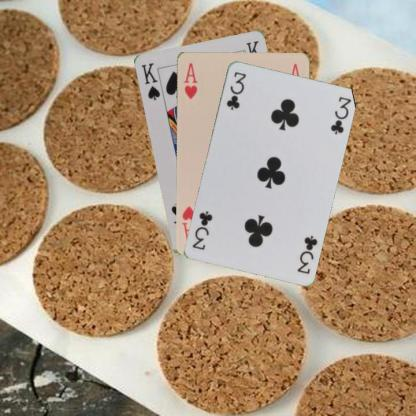3c: (294, 232, 318, 275), (224, 69, 247, 111)
Ah: (180, 59, 198, 100)
Ks: (138, 60, 161, 102)
